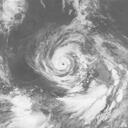cyclone: (29, 38, 87, 88)
